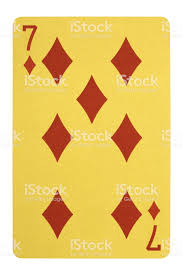seven of diamonds: (14, 19, 169, 259)
